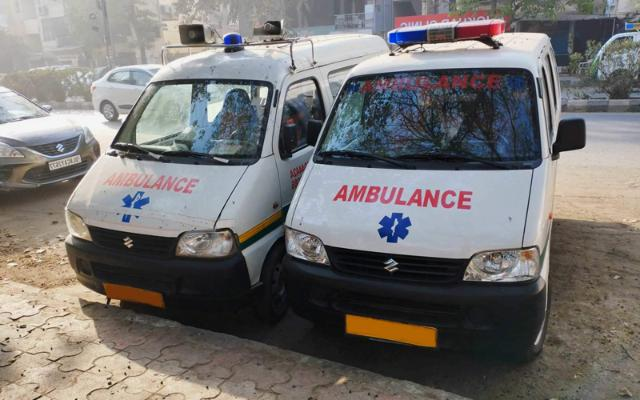ambulance: (271, 15, 595, 365), (57, 4, 390, 326)
